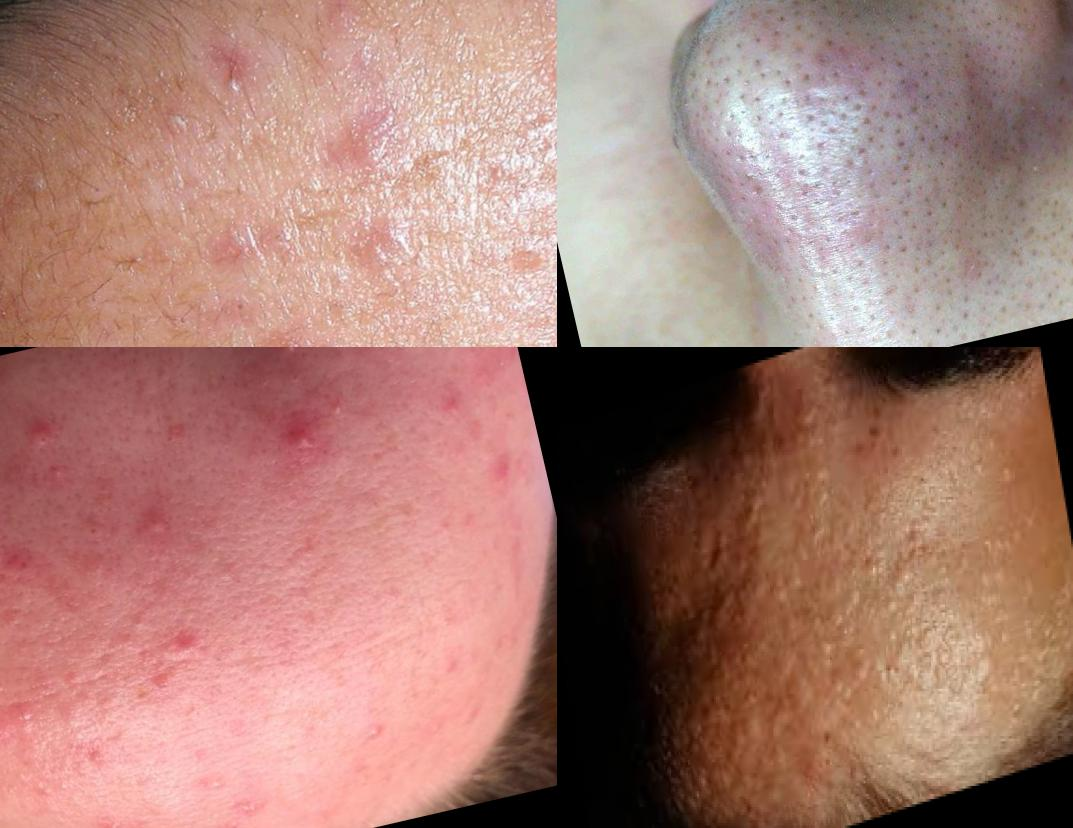blackhead: (762, 195, 859, 280), (797, 35, 895, 119), (916, 169, 1016, 250), (812, 268, 901, 348), (755, 123, 842, 204), (948, 3, 1033, 84), (1012, 194, 1073, 305), (729, 1, 835, 63), (847, 172, 919, 262), (730, 59, 809, 140), (891, 251, 970, 330), (883, 108, 961, 184), (691, 130, 759, 215), (955, 94, 1024, 163), (829, 106, 896, 177), (887, 35, 954, 102), (679, 67, 743, 135)
flat_wart: (668, 640, 893, 828), (689, 459, 881, 677)
milium: (1017, 69, 1057, 124), (955, 241, 999, 286), (1010, 152, 1060, 187)
papular: (316, 107, 402, 188), (193, 32, 258, 125), (257, 399, 334, 474), (117, 485, 176, 550), (7, 404, 61, 466), (67, 506, 115, 552), (125, 598, 169, 642), (1, 533, 42, 573), (1, 715, 21, 760)
purulent: (340, 708, 419, 753), (76, 790, 147, 828), (323, 381, 355, 429), (266, 348, 309, 365)
whitehead: (6, 165, 78, 220), (137, 103, 193, 160)
